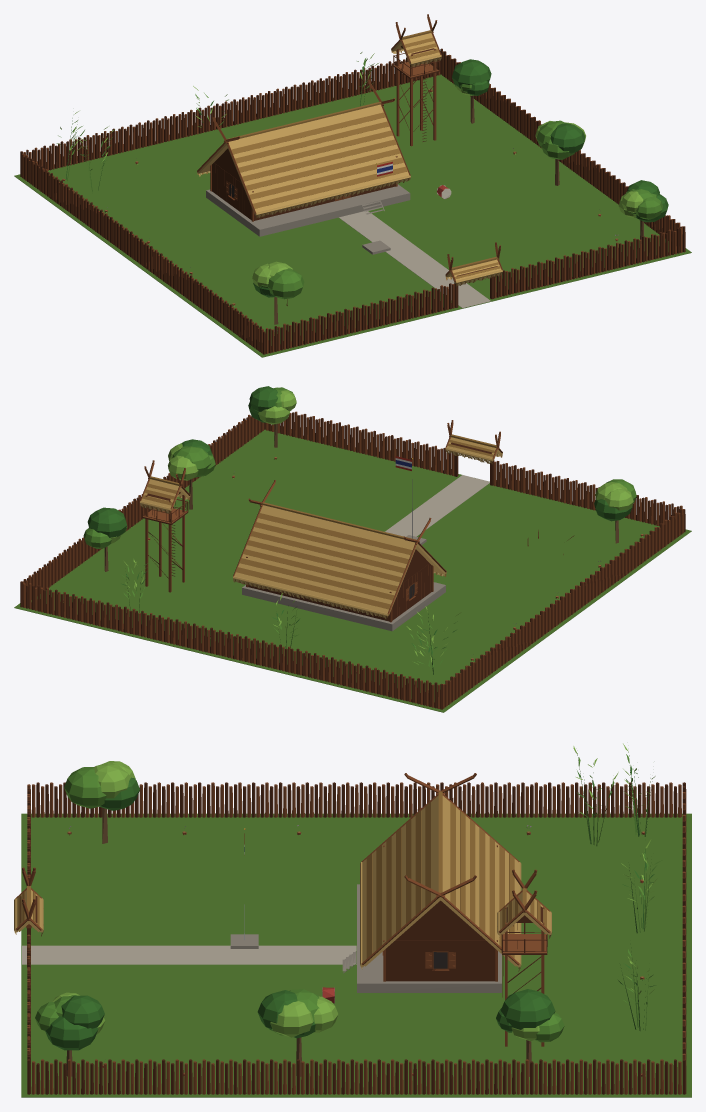
The model's file is police.glb.
3 views of the same model, one above another, from view 1: azimuth 30°, elevation 25°; view 2: azimuth 150°, elevation 25°; view 3: azimuth 270°, elevation 25° (orthographic). The views are drawn at different scales.
Visible parts, largest first — view 1: body; view 2: body; view 3: body.
Boxes of the visible parts, left/top/right/bottom form: body: left=14, top=14, right=691, bottom=357; body: left=14, top=386, right=691, bottom=712; body: left=14, top=743, right=691, bottom=1097.
Bounding box in the file's own units: 47.9 × 12.73 × 48.42.
